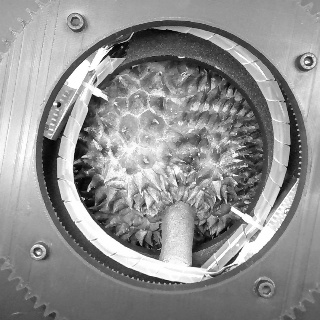base: (155, 193, 206, 226)
